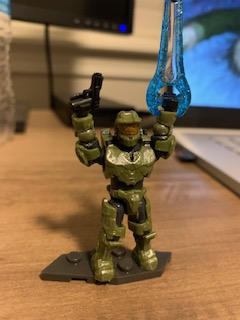chief: (68, 93, 180, 284)
pistol: (66, 72, 105, 117)
spartan: (66, 91, 178, 282)
up: (66, 94, 181, 186)
